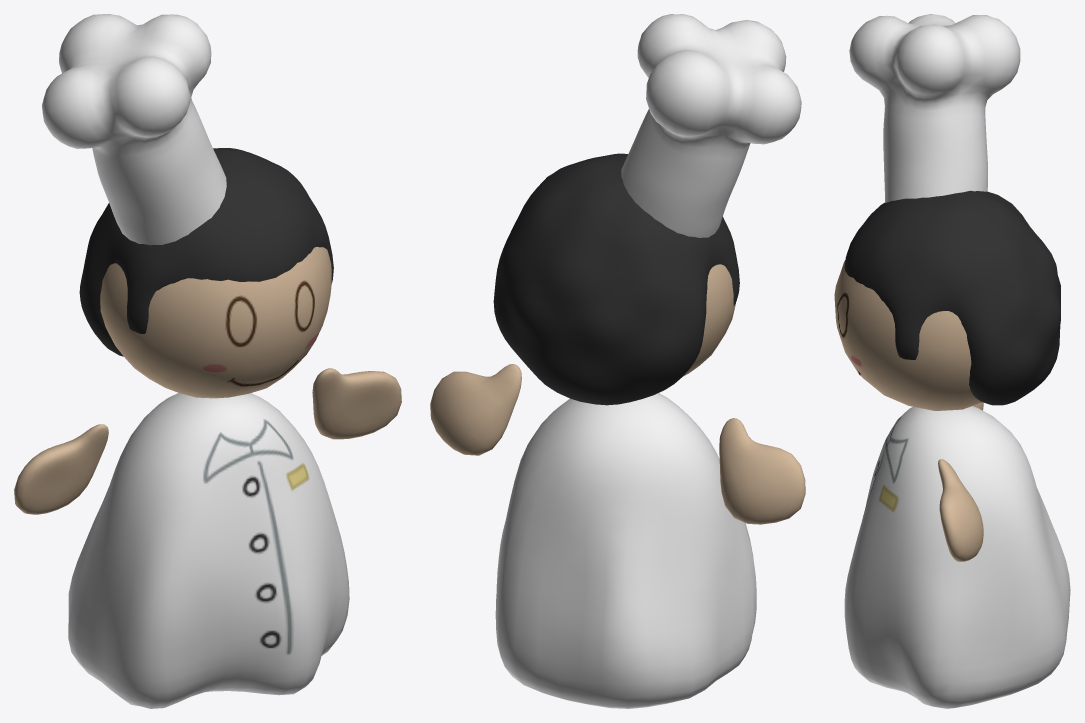
File: player_1v4.gltf
3 renders of one model, left to right at view 1: azimuth 30°, elevation 25°; view 2: azimuth 150°, elevation 25°; view 3: azimuth 270°, elevation 25°, orthographic. The views are drawn at different scales.
Visible parts, largest first — view 1: player_1; view 2: player_1; view 3: player_1.
Boxes of the visible parts, left/top/right/bottom form: player_1: left=14, top=14, right=401, bottom=708; player_1: left=430, top=14, right=805, bottom=708; player_1: left=834, top=14, right=1070, bottom=708.
Bounding box in the file's own units: 1.9 × 3.18 × 1.1.
1 material, 1 textured.
